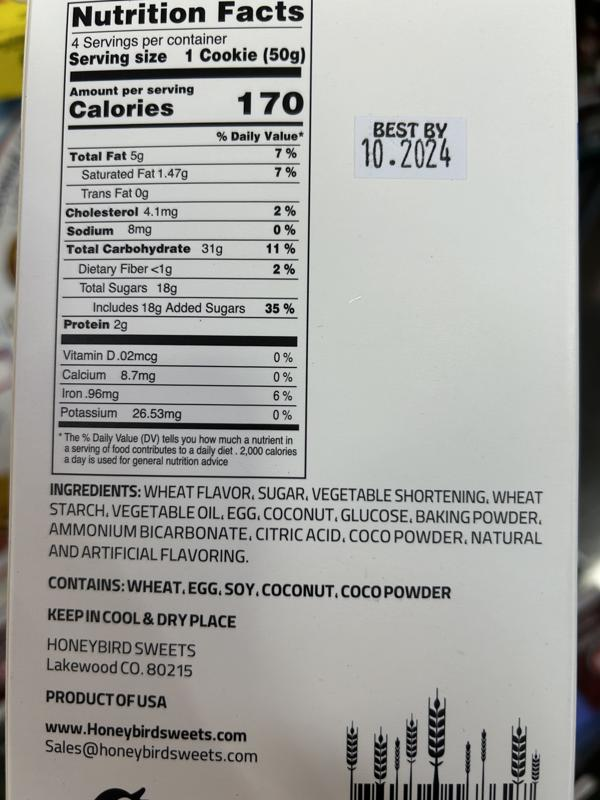ingredients: (47, 480, 545, 563)
